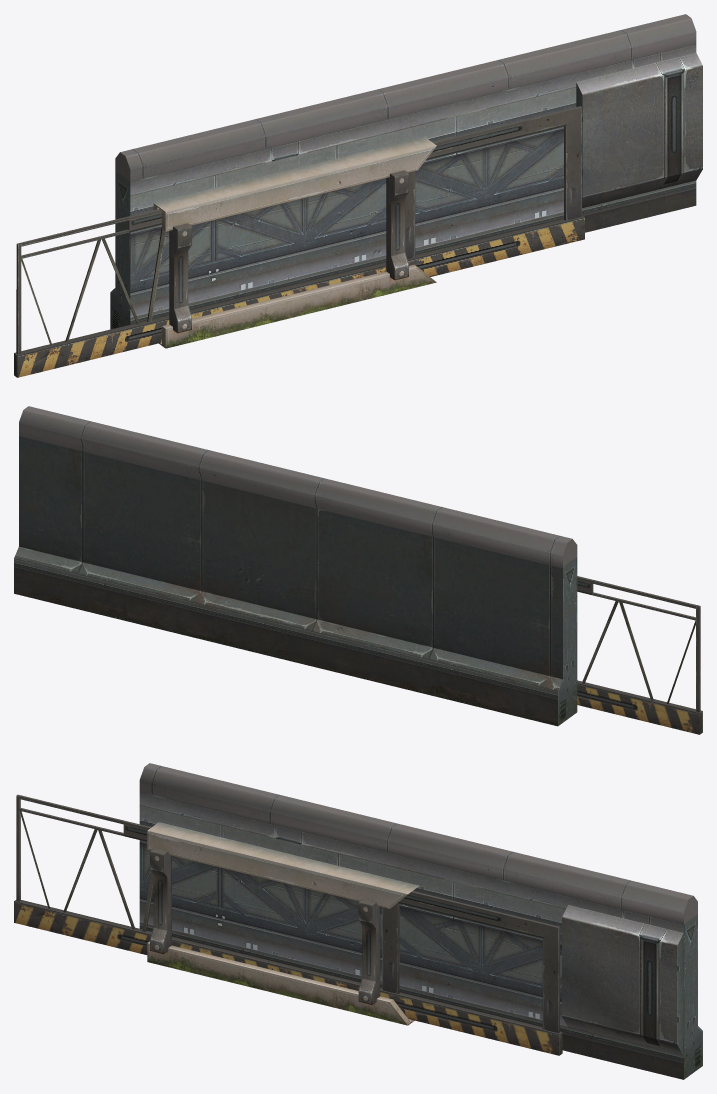
File: Cover_Qiang04.glb
3 views of the same model, one above another, from view 1: azimuth 30°, elevation 25°; view 2: azimuth 150°, elevation 25°; view 3: azimuth 330°, elevation 25° (orthographic). The views are drawn at different scales.
Visible parts, largest first — view 1: xiutz_qiang04; view 2: xiutz_qiang04; view 3: xiutz_qiang04.
Part boxes in pixels (<box>): xiutz_qiang04: <box>14,14,702,377</box>; xiutz_qiang04: <box>14,406,702,734</box>; xiutz_qiang04: <box>14,763,702,1079</box>.
Bounding box in the file's own units: 13.38 × 3.42 × 1.29.
Materials: 1 (1 with a texture image).
